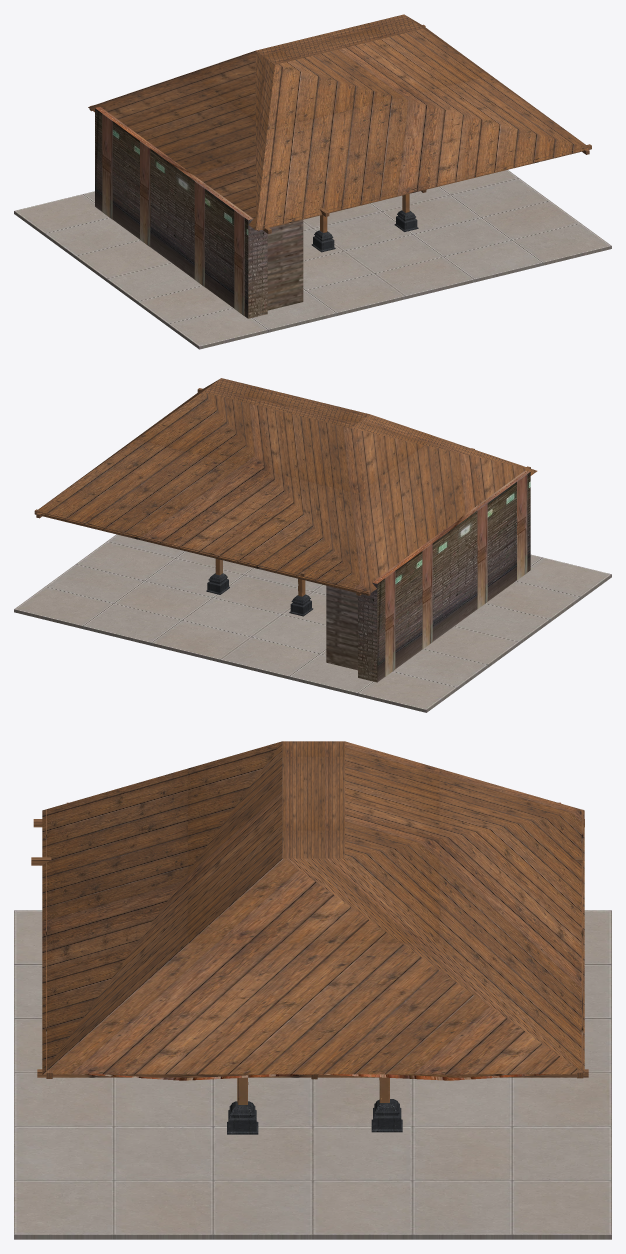
3 views of the same model, one above another, from view 1: azimuth 30°, elevation 25°; view 2: azimuth 150°, elevation 25°; view 3: azimuth 270°, elevation 25° (orthographic). The views are drawn at different scales.
Parts seen in each view (by area): view 1: Cube.020, Plane.003, Cube.019, Cube.024, Cube.022, Cube.026, Cube.025, Cube.015; view 2: Cube.020, Plane.003, Cube.019, Cube.026, Cube.016, Cube.022, Cube.024, Cube.025; view 3: Cube.020, Plane.003, Cube.014, Plane.004, Cube.001, Cube.002, Cube.016.
Boxes of the visible parts, x1,y1,x2,y2 form: Cube.020: (88, 14, 590, 230); Plane.003: (14, 170, 611, 349); Cube.019: (95, 107, 267, 318); Cube.024: (234, 210, 303, 315); Cube.022: (194, 181, 204, 286); Cube.026: (102, 113, 112, 219); Cube.025: (140, 141, 150, 246); Cube.015: (257, 144, 591, 230); Cube.020: (35, 378, 537, 593); Plane.003: (14, 534, 611, 712); Cube.019: (358, 470, 530, 682); Cube.026: (326, 571, 395, 676); Cube.016: (34, 509, 370, 595); Cube.022: (477, 503, 487, 609); Cube.024: (517, 474, 527, 579); Cube.025: (422, 543, 432, 649); Cube.020: (42, 741, 584, 1074); Plane.003: (14, 910, 611, 1239); Cube.014: (37, 1069, 588, 1077); Plane.004: (82, 1074, 550, 1080); Cube.001: (227, 1101, 258, 1134); Cube.002: (371, 1099, 402, 1132); Cube.016: (577, 809, 583, 1078).
Bounding box in the file's own units: 7.31 × 3.13 × 5.69.
Materials: 6 (6 with a texture image).
